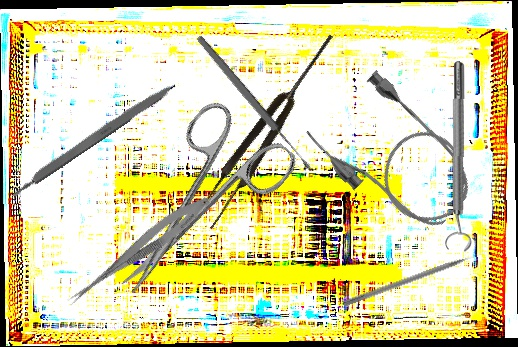Cannula: (299, 63, 489, 251)
Fixation Ring: (442, 61, 476, 252)
Iris Scissors: (82, 90, 302, 322)
Micro Scissor: (63, 188, 215, 315)
Pusher: (342, 249, 487, 309)
Scalpel Handle: (8, 78, 178, 199)
Surgical Spoon: (194, 33, 314, 173)
Tissue Forceps: (190, 28, 345, 231)
